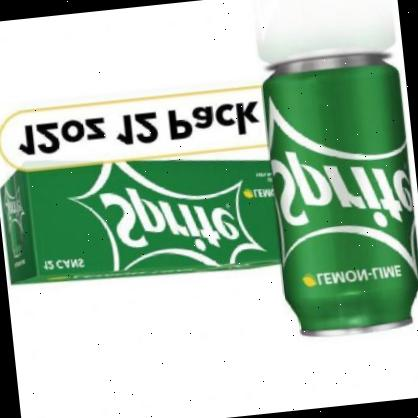can: (259, 48, 418, 342)
